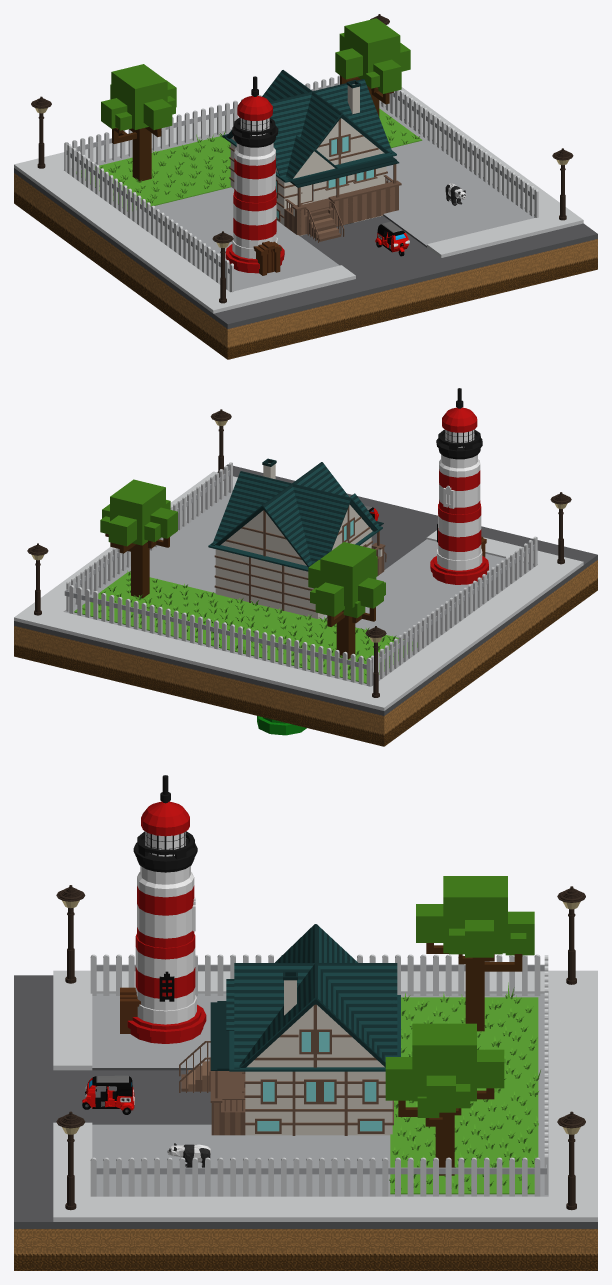
3 views of the same model, one above another, from view 1: azimuth 30°, elevation 25°; view 2: azimuth 150°, elevation 25°; view 3: azimuth 270°, elevation 25° (orthographic). The views are drawn at different scales.
Parts seen in each view (by area): view 1: Cube.004, Cube.793, OBJRANDOM_LIGHTHOUSE, VEHICLES_TUC_TUC; view 2: Cube.004, Cube.793, OBJRANDOM_LIGHTHOUSE, UNDERGROUND_PIPES; view 3: Cube.004, Cube.793, OBJRANDOM_LIGHTHOUSE, VEHICLES_TUC_TUC, ANIMAL_PANDA.
Part boxes in pixels (left/top/right/bottom): Cube.004: left=14, top=14, right=597, bottom=359; Cube.793: left=222, top=70, right=401, bottom=242; OBJRANDOM_LIGHTHOUSE: left=225, top=76, right=284, bottom=275; VEHICLES_TUC_TUC: left=375, top=221, right=409, bottom=256; Cube.004: left=14, top=409, right=597, bottom=746; Cube.793: left=208, top=458, right=386, bottom=618; OBJRANDOM_LIGHTHOUSE: left=430, top=388, right=488, bottom=584; UNDERGROUND_PIPES: left=257, top=716, right=306, bottom=735; Cube.004: left=14, top=876, right=597, bottom=1270; Cube.793: left=179, top=924, right=400, bottom=1135; OBJRANDOM_LIGHTHOUSE: left=120, top=775, right=206, bottom=1043; VEHICLES_TUC_TUC: left=82, top=1075, right=134, bottom=1114; ANIMAL_PANDA: left=167, top=1143, right=210, bottom=1167.
Bounding box in the file's own units: 4000 × 2952 × 4000.
31 materials, 4 textured.
